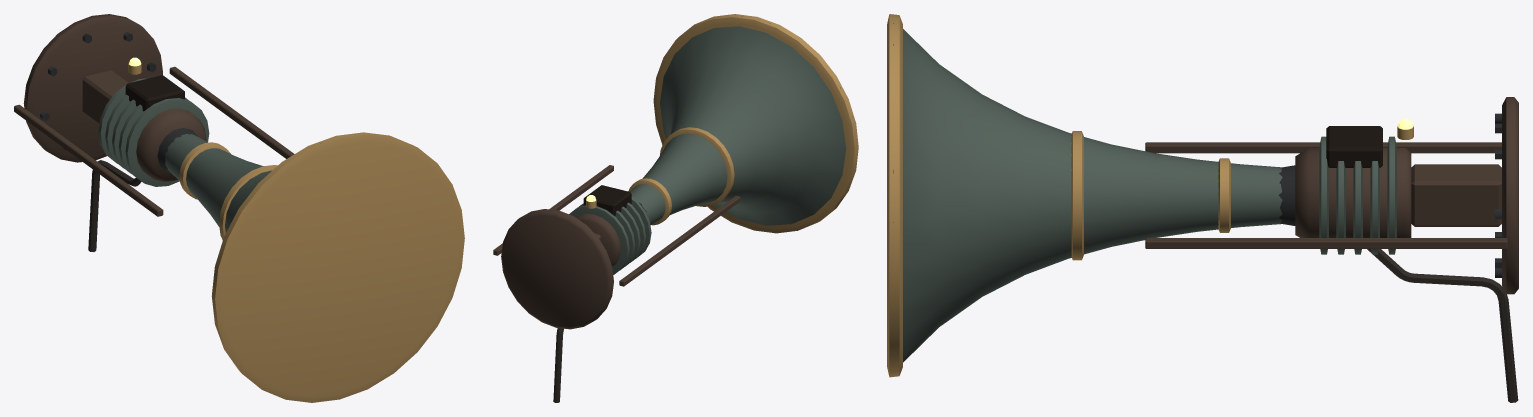
The model's file is pa_horn.glb.
3 views of the same model, side by side, from view 1: azimuth 30°, elevation 25°; view 2: azimuth 150°, elevation 25°; view 3: azimuth 270°, elevation 25° (orthographic). The views are drawn at different scales.
Parts seen in each view (by area): view 1: horn_body; view 2: horn_body; view 3: horn_body.
Boxes of the visible parts, x1,y1,x2,y2 form: horn_body: (14, 14, 464, 402); horn_body: (493, 14, 858, 402); horn_body: (887, 14, 1518, 402).
Size of the model in its own units: 0.642 by 0.7218 by 1.12.
